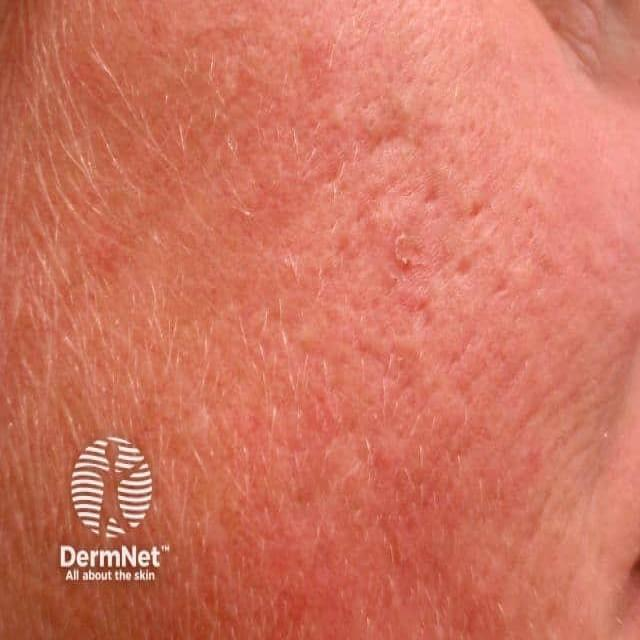Acne: (358, 126, 513, 370)
